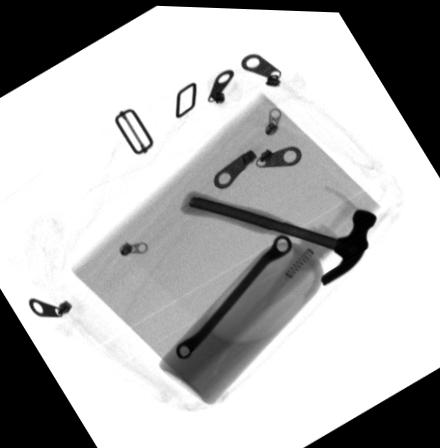Hammer: (183, 186, 378, 284)
Wrench: (176, 231, 294, 360)
